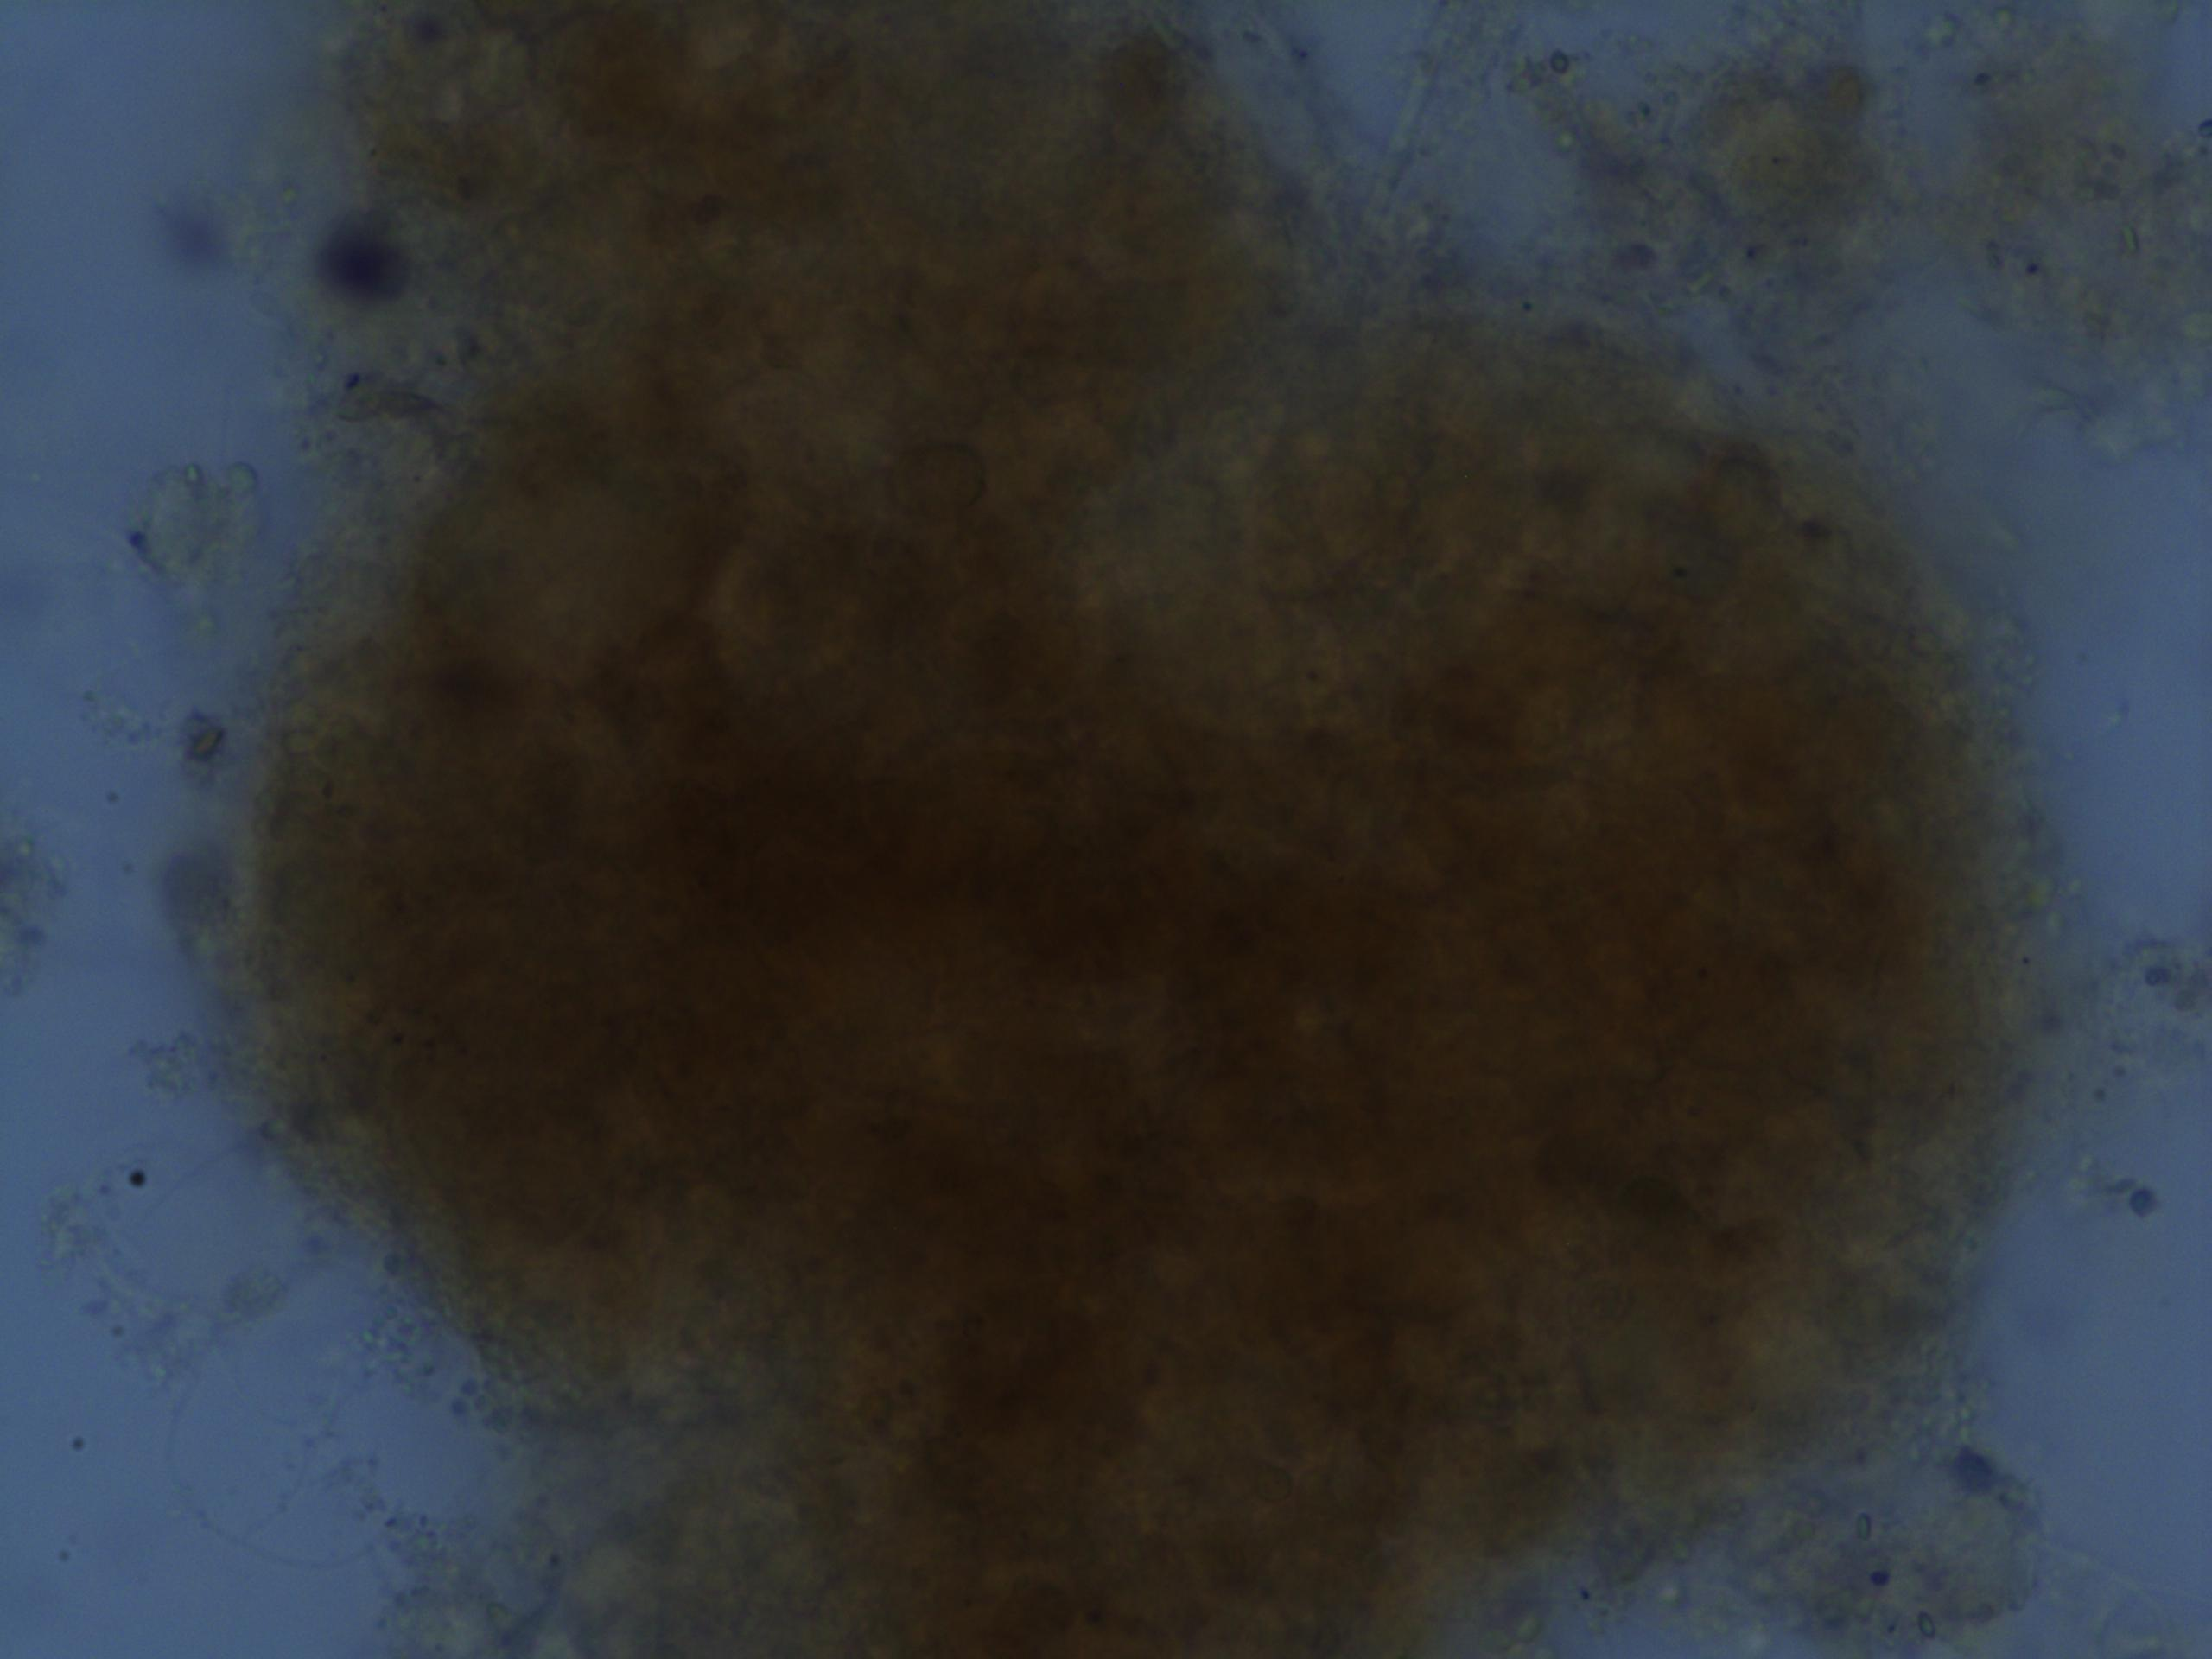spherical_floc: (195, 7, 2073, 1659)
